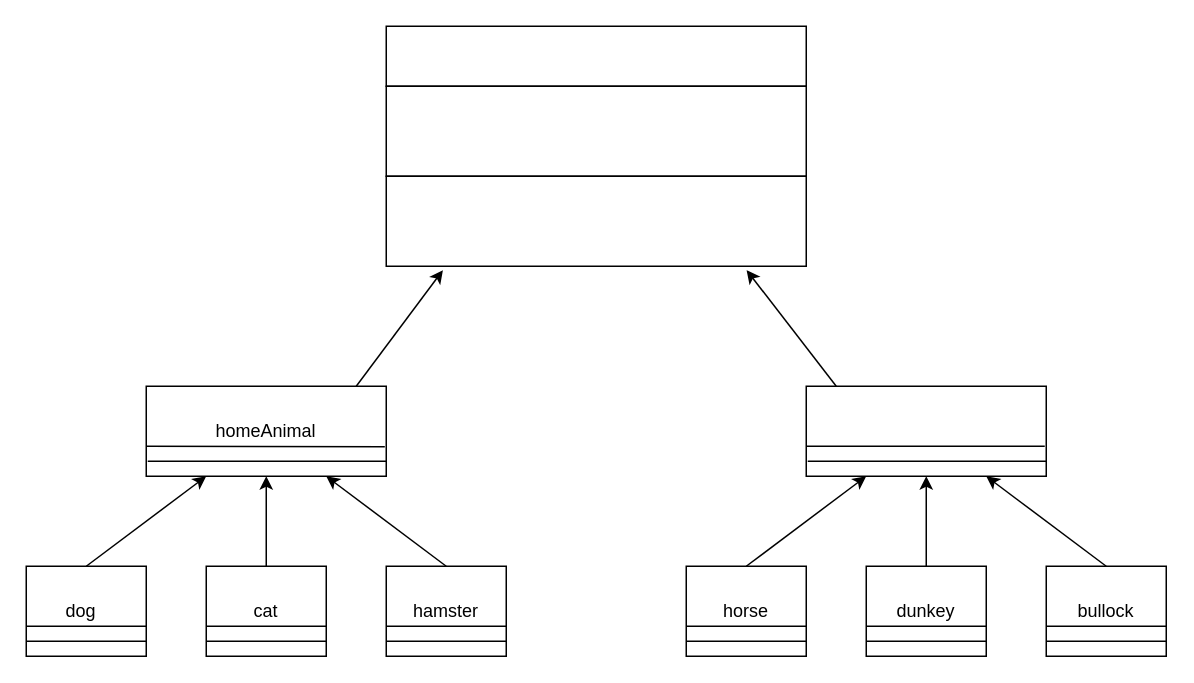
The diagram is 1194 pixels wide and 683 high, and some of its shapes have lost their labels. Here are the shapes that lost their labels. From the top down, the centre of each, then its label:
At point (595, 55): "Animal".
At point (595, 130): "- name : String - birthday : String - commands : ArrayList".
At point (595, 220): "- learnCommand(String command) : Boolean - getCommands(): String".
At point (925, 430): "draftAnimal".
